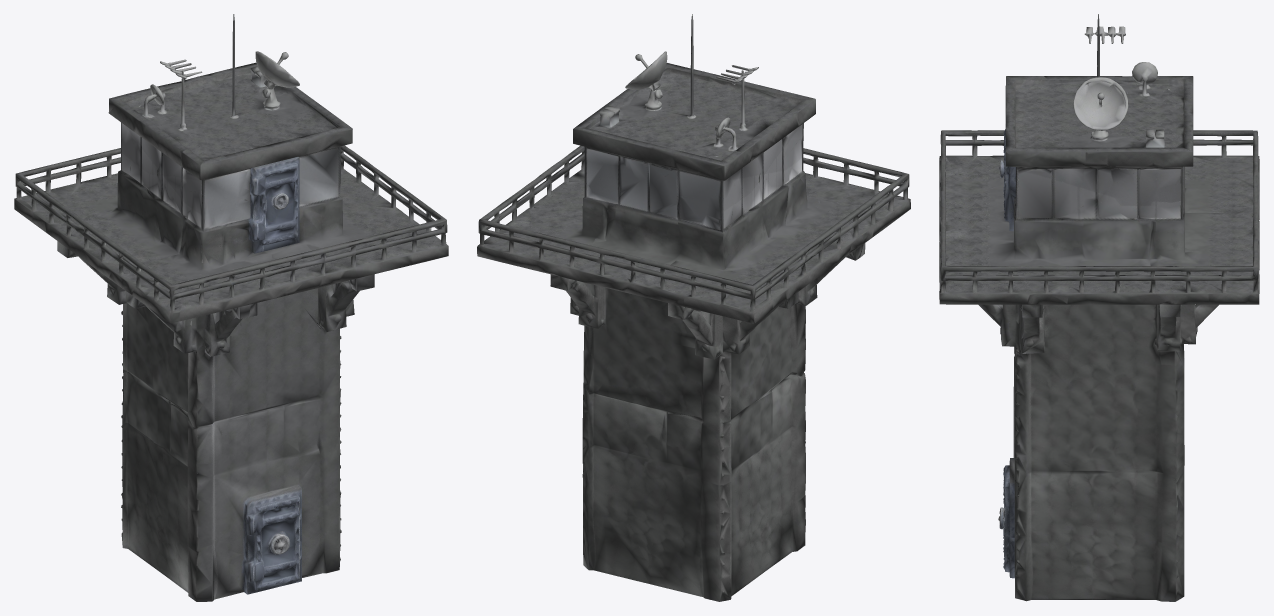
The model's file is base_tower.glb.
3 renders of one model, left to right at view 1: azimuth 30°, elevation 25°; view 2: azimuth 150°, elevation 25°; view 3: azimuth 270°, elevation 25°, orthographic. The views are drawn at different scales.
Parts seen in each view (by area): view 1: base_tower; view 2: base_tower; view 3: base_tower.
Part boxes in pixels (left/top/right/bottom): base_tower: left=14, top=14, right=448, bottom=601; base_tower: left=477, top=14, right=910, bottom=601; base_tower: left=939, top=14, right=1259, bottom=601.
Size of the model in its own units: 1.02 by 1.9 by 0.9998.
Materials: 1 (1 with a texture image).
